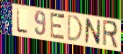9: (33, 10, 47, 39)
D: (67, 14, 84, 43)
E: (49, 11, 66, 43)
L: (16, 7, 29, 36)
N: (84, 17, 102, 47)
R: (102, 19, 119, 50)
